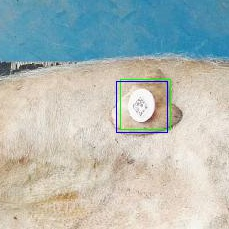text: (120, 79, 170, 129)
